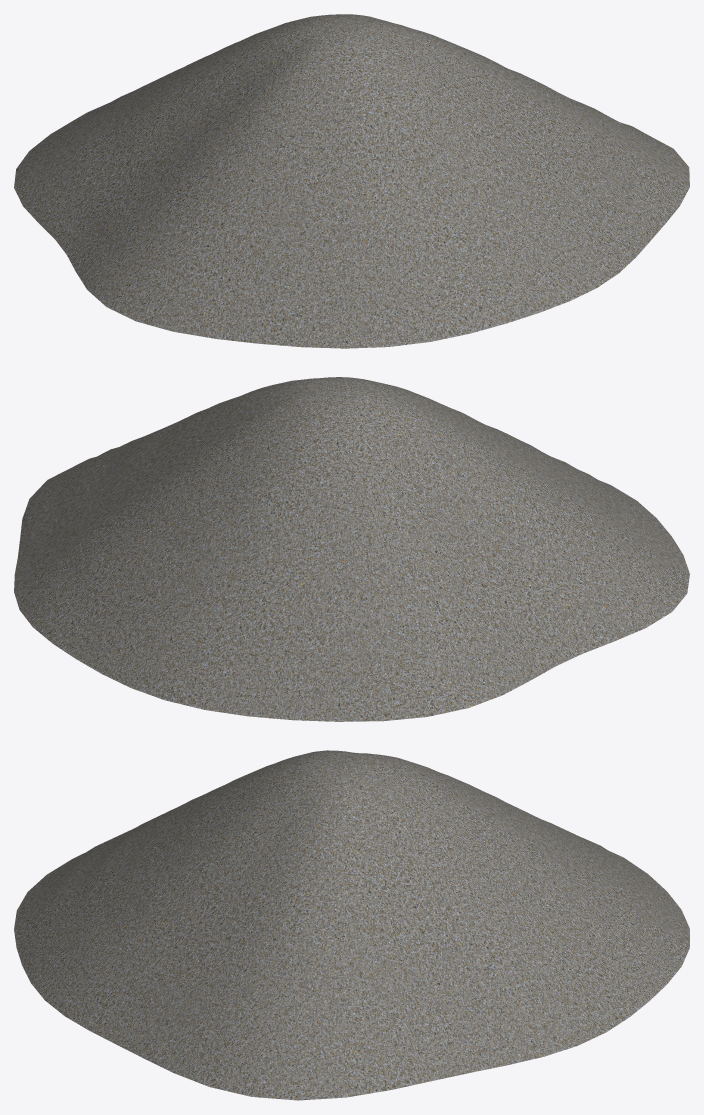
Rendered from PAV-BAS-001.glb.
3 renders of one model, top to bottom at view 1: azimuth 30°, elevation 25°; view 2: azimuth 150°, elevation 25°; view 3: azimuth 270°, elevation 25°, orthographic. The views are drawn at different scales.
Parts seen in each view (by area): view 1: PAV-BAS-001_monte; view 2: PAV-BAS-001_monte; view 3: PAV-BAS-001_monte.
Boxes of the visible parts, <box> form: PAV-BAS-001_monte: <box>14,14,689,348</box>; PAV-BAS-001_monte: <box>14,377,689,721</box>; PAV-BAS-001_monte: <box>14,750,689,1100</box>.
Bounding box in the file's own units: 1.8 × 0.5235 × 1.75.
Materials: 1 (1 with a texture image).
